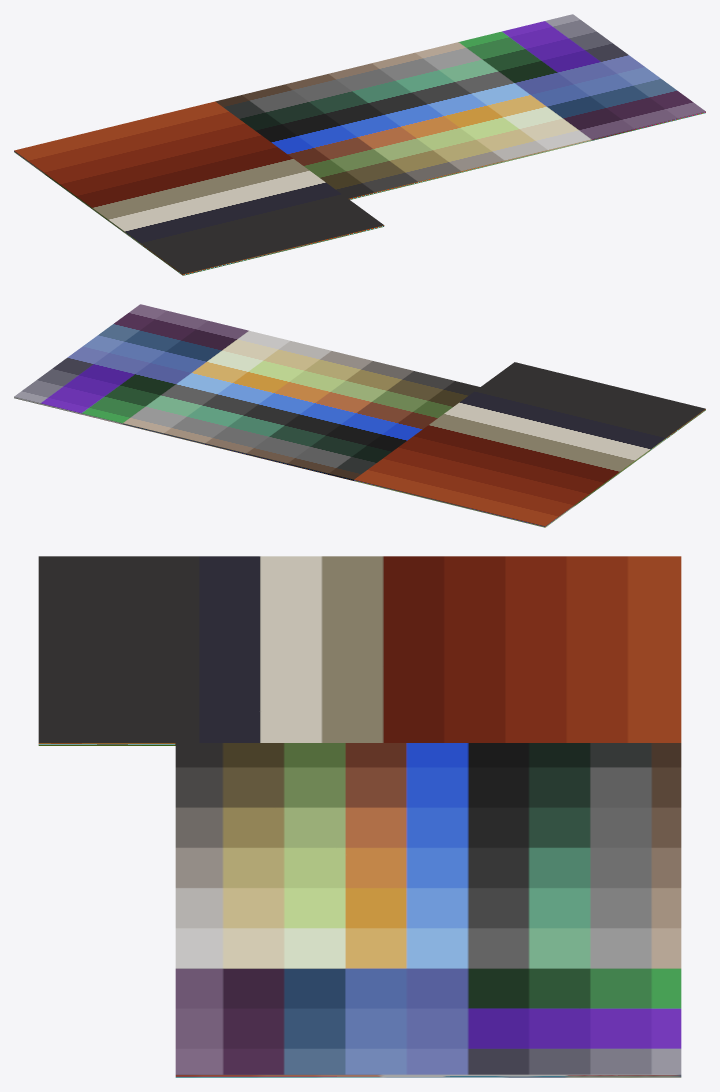
The model's file is Floor_00.fbx.
3 views of the same model, one above another, from view 1: azimuth 30°, elevation 25°; view 2: azimuth 150°, elevation 25°; view 3: azimuth 270°, elevation 25° (orthographic). The views are drawn at different scales.
Parts seen in each view (by area): view 1: Floor_00; view 2: Floor_00; view 3: Floor_00.
Boxes of the visible parts, box(x1,y1,x2,y2) form: Floor_00: box(14, 14, 705, 275); Floor_00: box(14, 304, 705, 527); Floor_00: box(38, 556, 681, 1077).
Bounding box in the file's own units: 8137 × 22.01 × 4262.
1 material, 1 textured.
